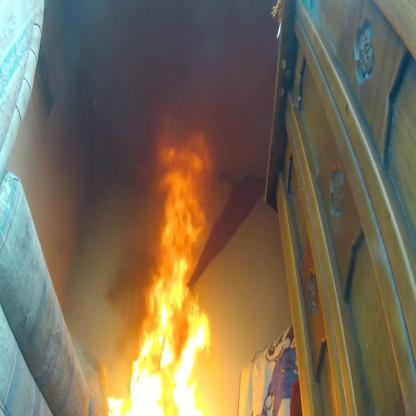fire: (122, 122, 213, 416)
